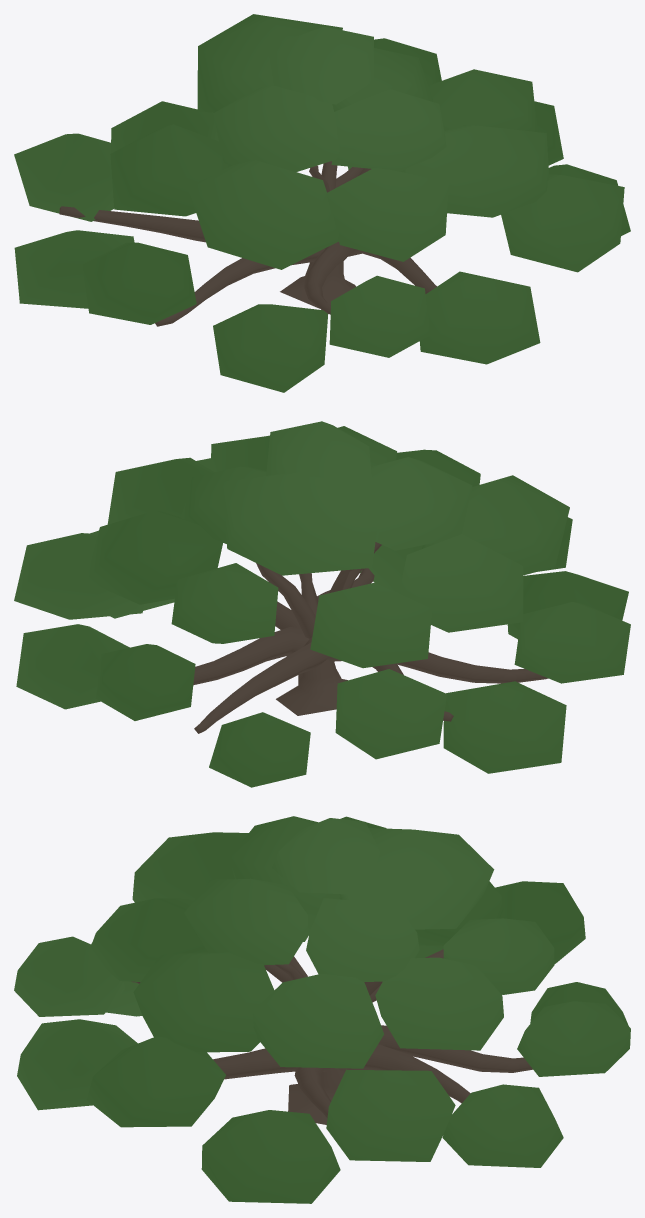
File: Blender_LiveOak_1_Far.glb
3 renders of one model, top to bottom at view 1: azimuth 30°, elevation 25°; view 2: azimuth 150°, elevation 25°; view 3: azimuth 270°, elevation 25°, orthographic. The views are drawn at different scales.
Visible parts, largest first — view 1: Blender_LiveOak_1_Far; view 2: Blender_LiveOak_1_Far; view 3: Blender_LiveOak_1_Far.
Part boxes in pixels (x1,y1,x2,y2): Blender_LiveOak_1_Far: [14, 14, 630, 392]; Blender_LiveOak_1_Far: [14, 421, 630, 787]; Blender_LiveOak_1_Far: [14, 816, 630, 1203].
Bounding box in the file's own units: 31.71 × 15.54 × 29.87.
